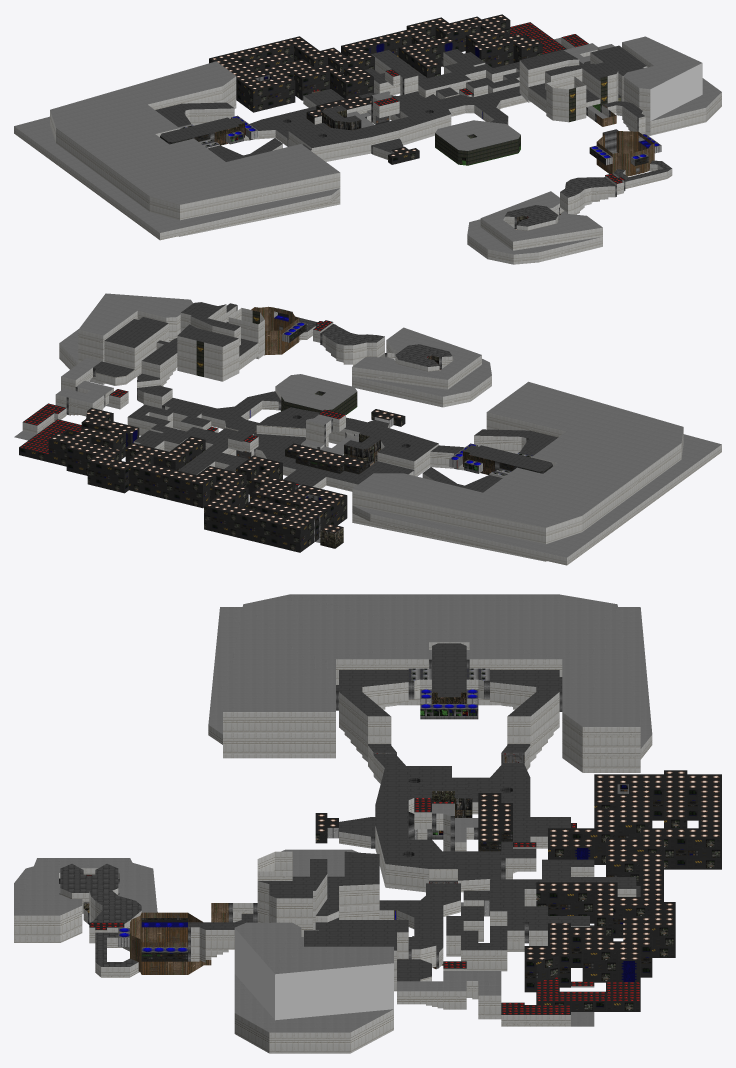
File: Mapa 2(1).fbx
3 renders of one model, top to bottom at view 1: azimuth 30°, elevation 25°; view 2: azimuth 150°, elevation 25°; view 3: azimuth 270°, elevation 25°, orthographic. The views are drawn at different scales.
Visible parts, largest first — view 1: E1M2; view 2: E1M2; view 3: E1M2.
Part boxes in pixels (left/top/right/bottom): E1M2: left=14, top=14, right=721, bottom=264; E1M2: left=14, top=293, right=721, bottom=565; E1M2: left=14, top=594, right=721, bottom=1053.
Size of the model in its own units: 531200 by 74400 by 390400.
Materials: 80 (79 with a texture image).
